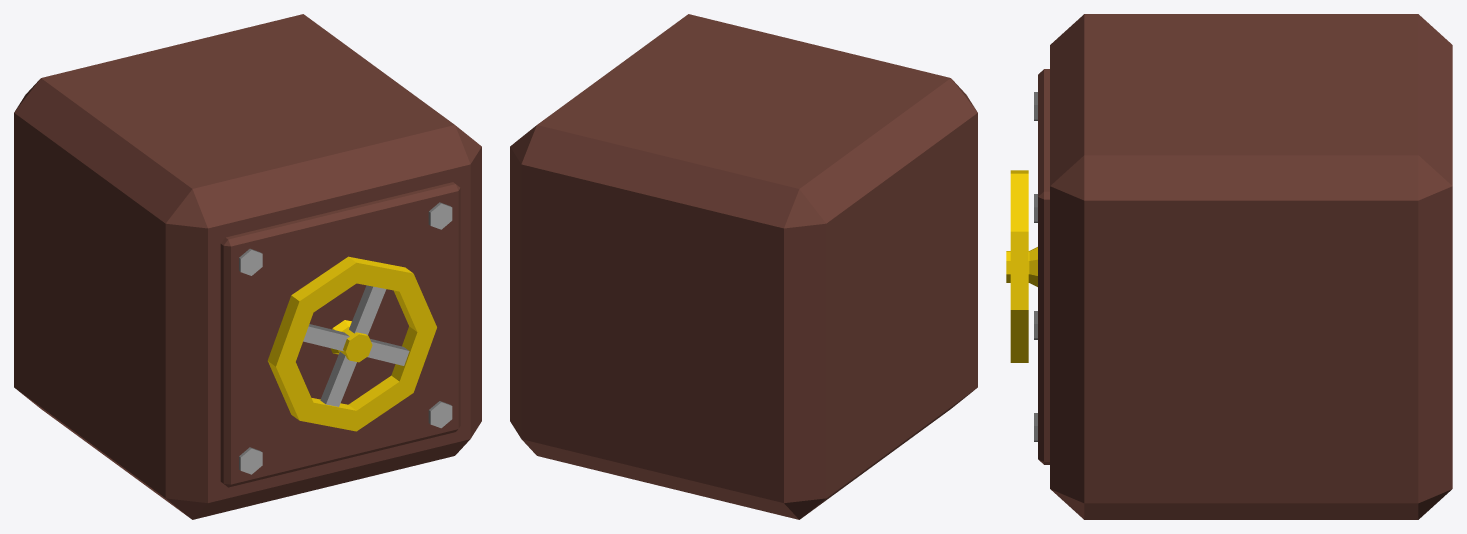
Rendered from Gold Chest Box.FBX.
3 renders of one model, left to right at view 1: azimuth 30°, elevation 25°; view 2: azimuth 150°, elevation 25°; view 3: azimuth 270°, elevation 25°, orthographic. The views are drawn at different scales.
Visible parts, largest first — view 1: Cube.016; view 2: Cube.016; view 3: Cube.016.
Part boxes in pixels (x1,y1,x2,y2): Cube.016: (14, 14, 481, 519); Cube.016: (510, 14, 977, 519); Cube.016: (1006, 14, 1452, 519).
Size of the model in its own units: 21.58 by 21.58 by 23.92.
